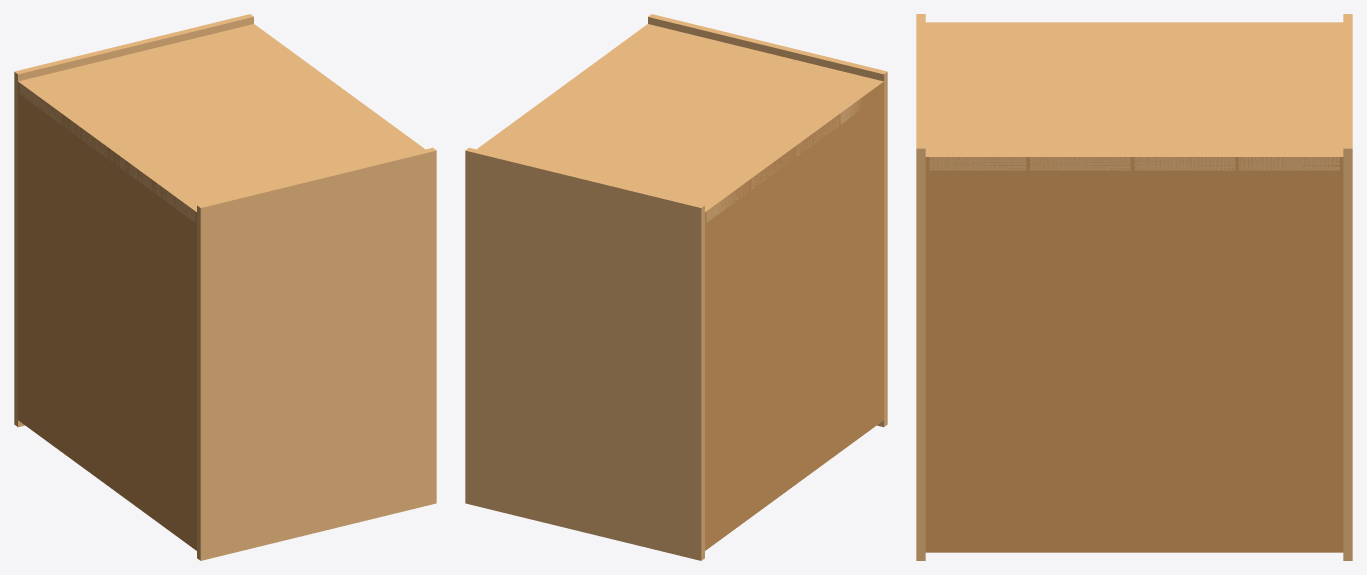
The model's file is Drawer_Light_Brown_new.dae.
The picture shows the model from 3 angles, left to right: view 1: azimuth 30°, elevation 25°; view 2: azimuth 150°, elevation 25°; view 3: azimuth 270°, elevation 25°; orthographic projection. The views are drawn at different scales.
Parts seen in each view (by area): view 1: node0; view 2: node0; view 3: node0.
Part boxes in pixels (bbox=[...]): node0: bbox=[14, 14, 436, 560]; node0: bbox=[465, 14, 887, 560]; node0: bbox=[916, 14, 1352, 560].
Bounding box in the file's own units: 0.42 × 0.575 × 0.6.
